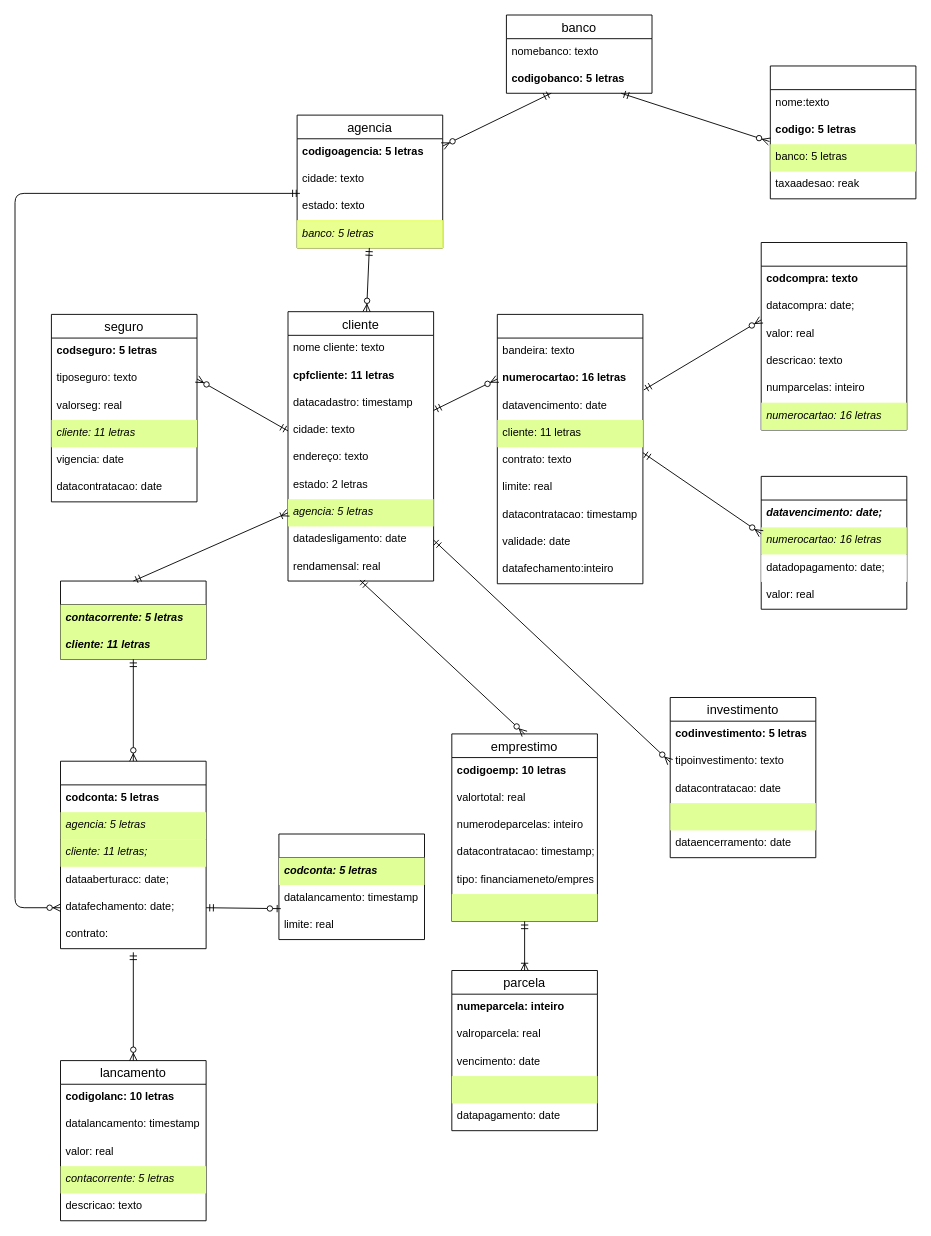
Some shapes in this 931 by 1236 pixel diagram are drawn without their labels. Here are the shapes that lost their labels. From the top down, the box of each, then its label:
(769, 65, 916, 199): produto
(760, 242, 907, 430): compracartao
(496, 313, 643, 584): cartaodecredito
(760, 475, 907, 609): fatura
(60, 580, 206, 659): clienteconta
(670, 803, 815, 830): cliente: 14 letras;
(60, 760, 206, 949): contacorrente
(278, 833, 425, 940): chequeespecial
(451, 894, 597, 921): cliente: 14 letras
(451, 1076, 597, 1103): emprestimo: 10 letras
